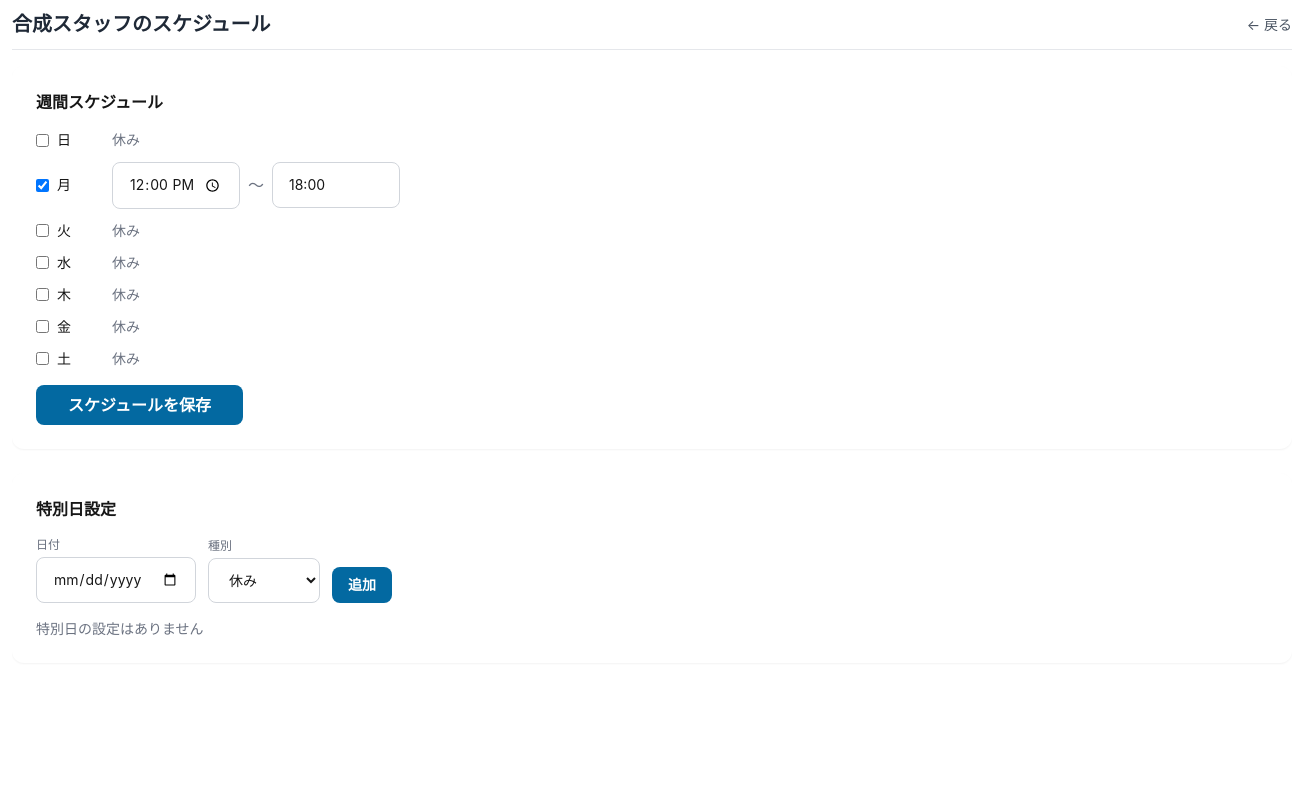
Test case: 勤務日を外して0日にした保存も止める
This screenshot has width=1304, height=812.
Expected: the button "スケジュールを保存" is shown, [36,385,243,425]
Click the checkbox labelled "月". click: (42, 185)
box: [36,179,49,192]
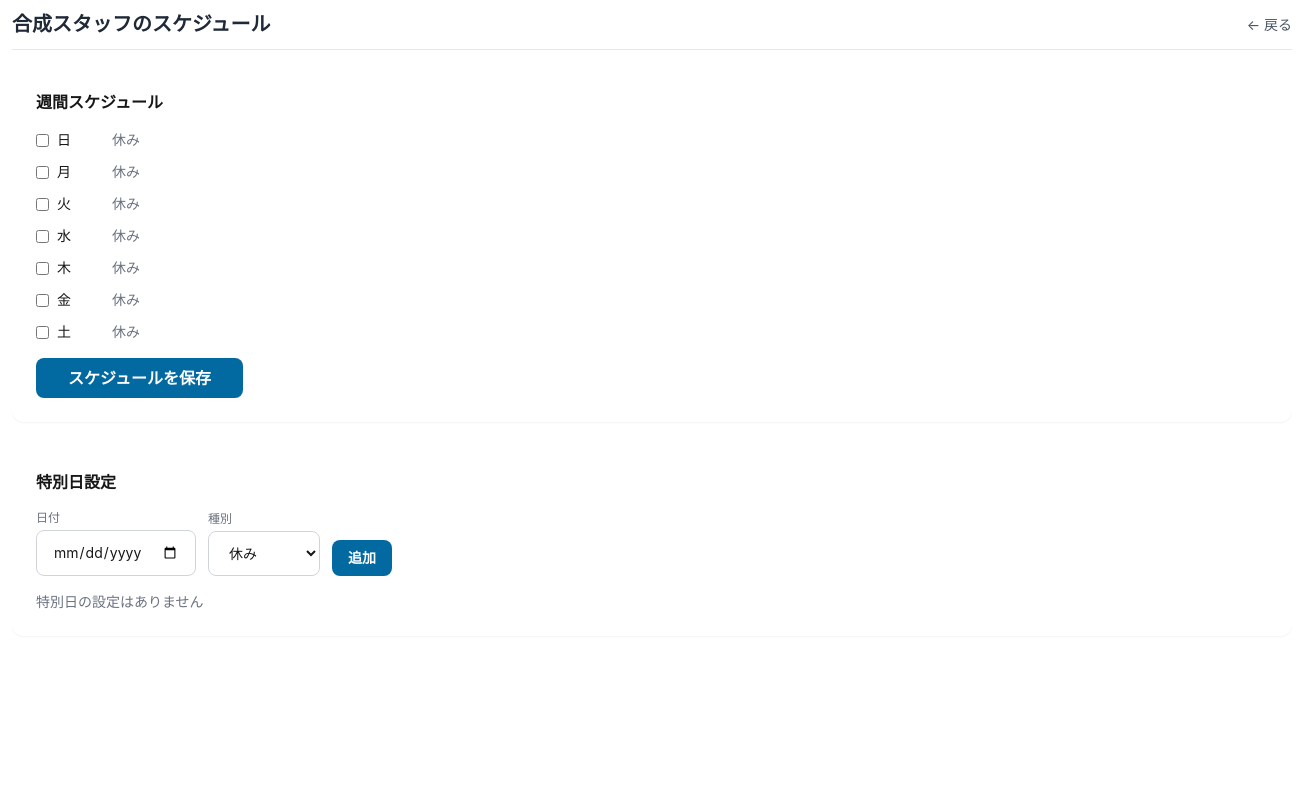
Click the button "スケジュールを保存". click: (139, 378)
box: [36,358,243,398]
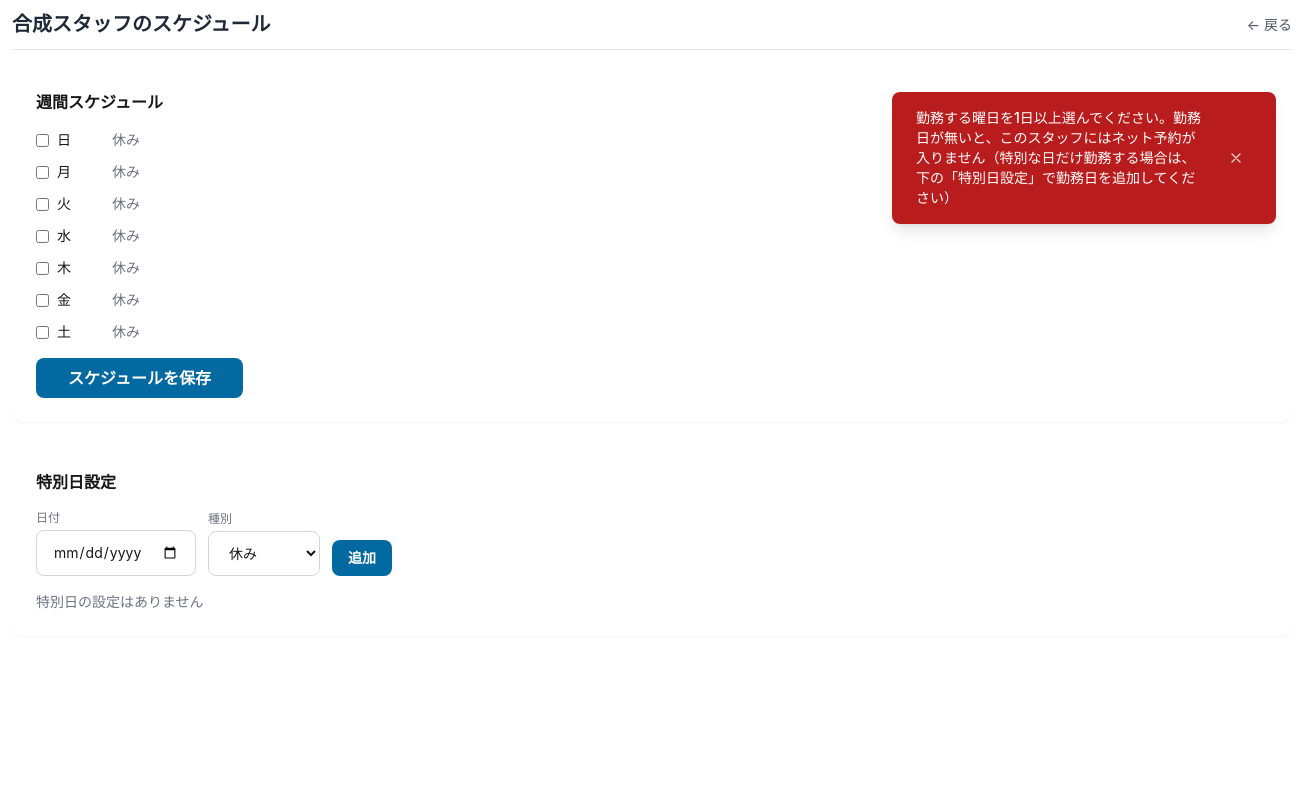
Expected: the text "勤務する曜日を1日以上選んでください。勤務日が無いと、このスタッフにはネット予約が入りません（特別な日だけ勤務する場合は、下の「特別日設定」で勤務日を追加してください）" is shown, [916,109,1201,206]
